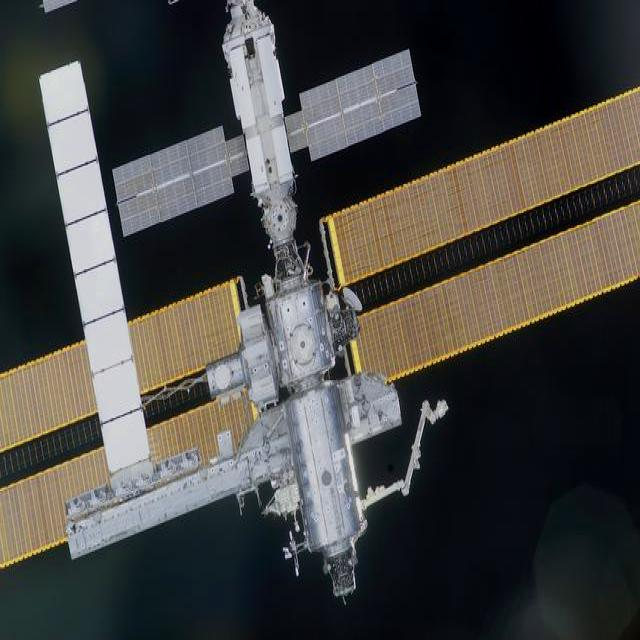satellite: (31, 34, 631, 616)
